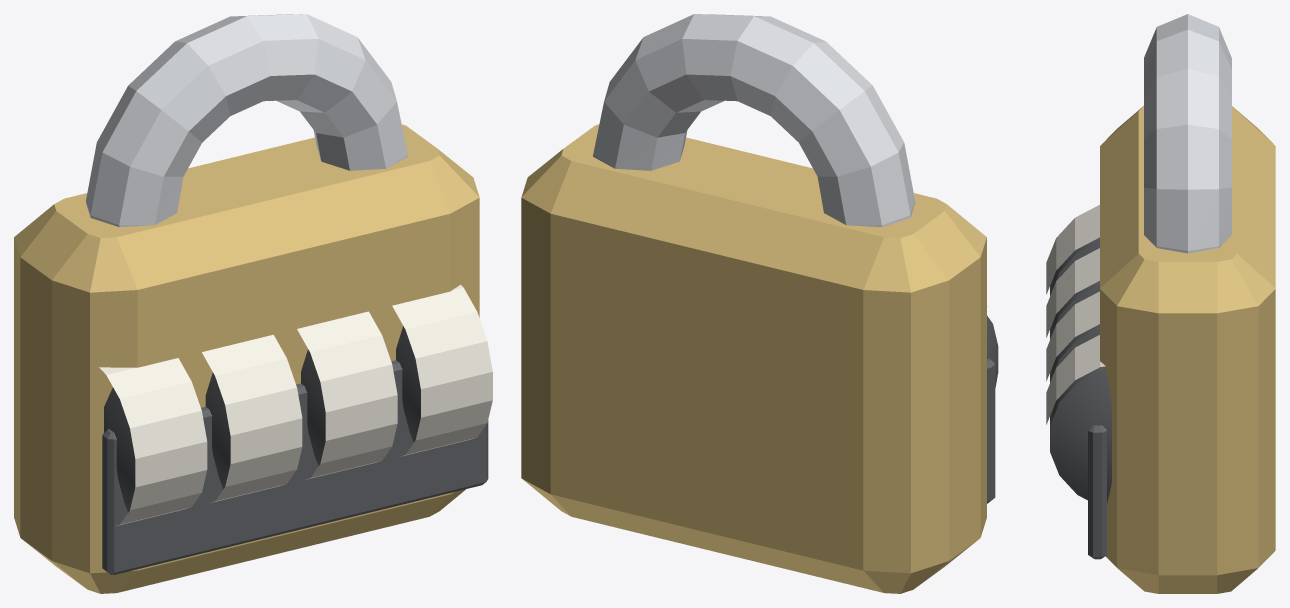
The model's file is escape-room-and-puzzle-venue-combination-padlock-large-e9af5275__35784.glb.
3 renders of one model, left to right at view 1: azimuth 30°, elevation 25°; view 2: azimuth 150°, elevation 25°; view 3: azimuth 270°, elevation 25°, orthographic. The views are drawn at different scales.
Parts seen in each view (by area): view 1: combination-padlock-large; view 2: combination-padlock-large; view 3: combination-padlock-large.
Part boxes in pixels (left/top/right/bottom): combination-padlock-large: left=14, top=14, right=492, bottom=593; combination-padlock-large: left=521, top=14, right=998, bottom=593; combination-padlock-large: left=1046, top=14, right=1275, bottom=593.
Bounding box in the file's own units: 0.0961 × 0.1132 × 0.0486.
